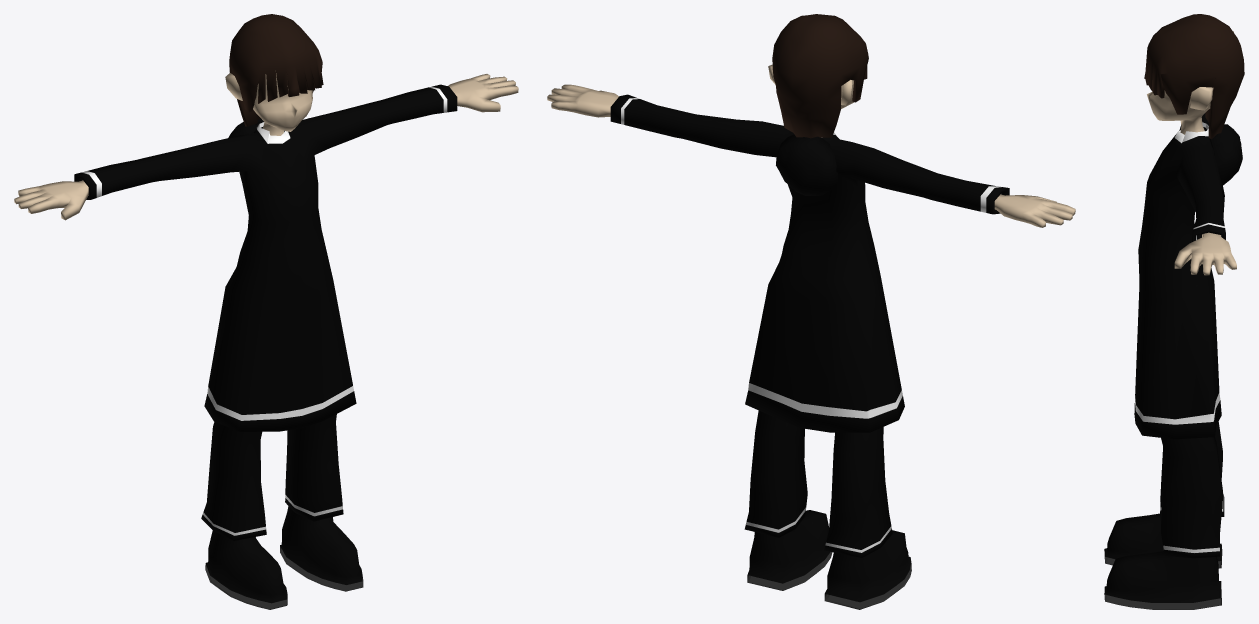
File: charakter_MC.fbx
3 renders of one model, left to right at view 1: azimuth 30°, elevation 25°; view 2: azimuth 150°, elevation 25°; view 3: azimuth 270°, elevation 25°, orthographic. The views are drawn at different scales.
Parts seen in each view (by area): view 1: jas, celana, sepatu, rambut, body, kepala; view 2: jas, celana, rambut, sepatu, body, hodiy; view 3: jas, sepatu, rambut, celana, body, kepala, hodiy.
Boxes of the visible parts, x1,y1,x2,y2 form: jas: (74, 84, 457, 431); celana: (201, 414, 343, 540); sepatu: (205, 506, 363, 609); rambut: (229, 14, 323, 126); body: (14, 74, 518, 220); kepala: (225, 73, 312, 135); jas: (610, 94, 1009, 432); celana: (744, 410, 892, 557); rambut: (772, 14, 868, 138); sepatu: (747, 510, 911, 609); body: (547, 84, 1075, 227); hodiy: (776, 134, 837, 195); jas: (1134, 113, 1225, 439); sepatu: (1104, 513, 1222, 609); rambut: (1144, 14, 1244, 139); celana: (1160, 422, 1224, 558); body: (1174, 31, 1236, 275); kepala: (1147, 87, 1213, 134); hodiy: (1208, 124, 1242, 185).
Bounding box in the file's own units: 154 × 162 × 36.8.
